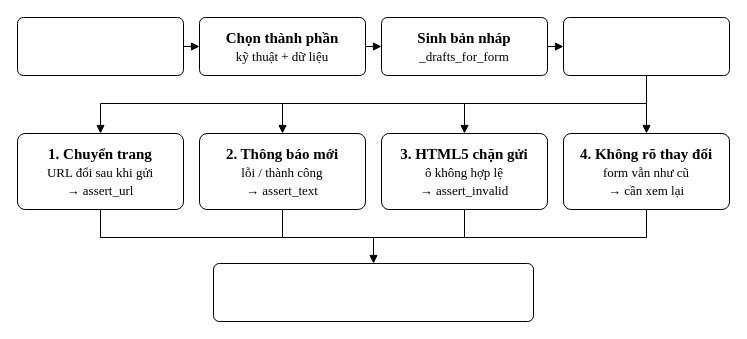
Some shapes in this 747 by 339 pixel diagram are drawn without their labels. The shapes that lost their labels are listed below. From the top down, each one's box as (x1, y1, x2, y2) in pixels, then its label:
(16, 16, 184, 76): Quét trang JS_SCAN, crawl_site
(562, 16, 730, 76): Chạy thử trình duyệt thật
(212, 262, 534, 322): Ghi file Excel (writer.py) dòng vàng: tự ghi nhận · dòng cam: cần xem lại
